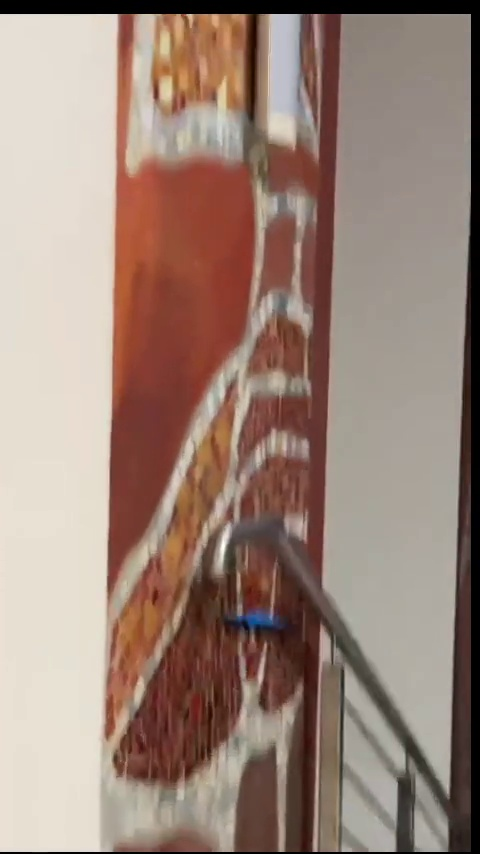drone: (221, 609, 293, 641)
